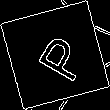P_NW: (24, 26, 86, 84)
